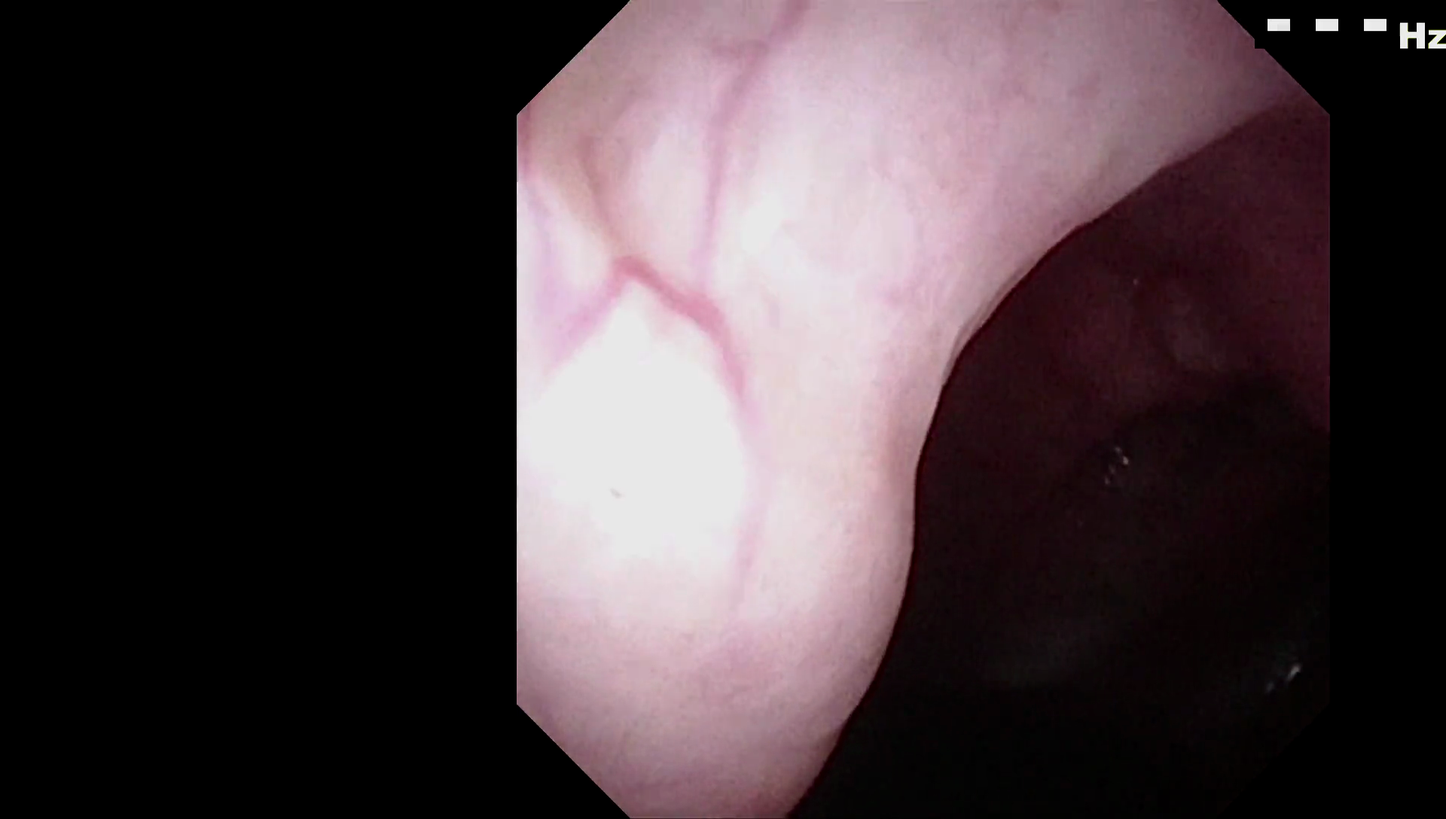close_wall: (520, 13, 1217, 809)
next: (846, 419, 1330, 819)
